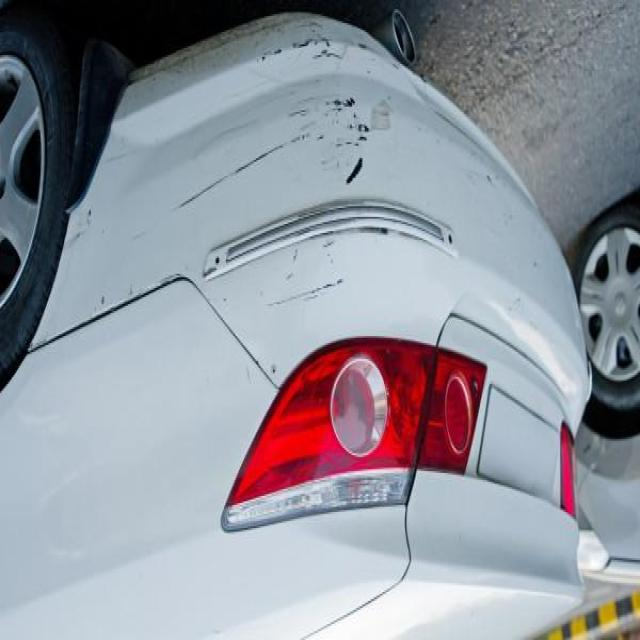scratch: (186, 122, 316, 207), (253, 265, 352, 320)
